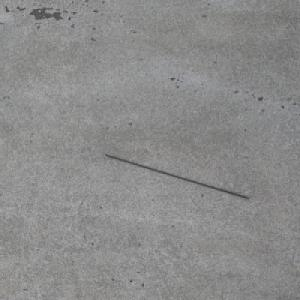LuggagePart: (103, 154, 249, 199)
